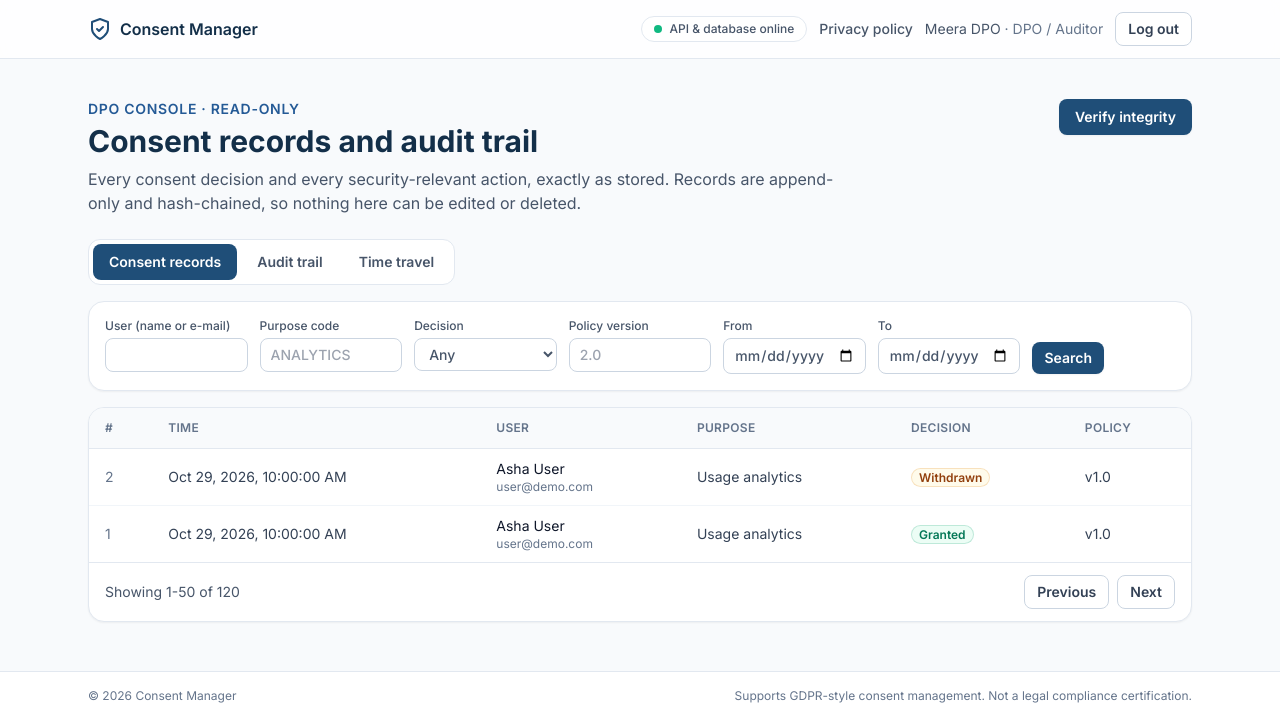
Test: DPO console (#22) › switches to the audit trail tab
This screenshot has width=1280, height=720.
Click the tab "Audit trail". click: click(290, 262)
box: top-left (241, 244), bottom-right (339, 280)
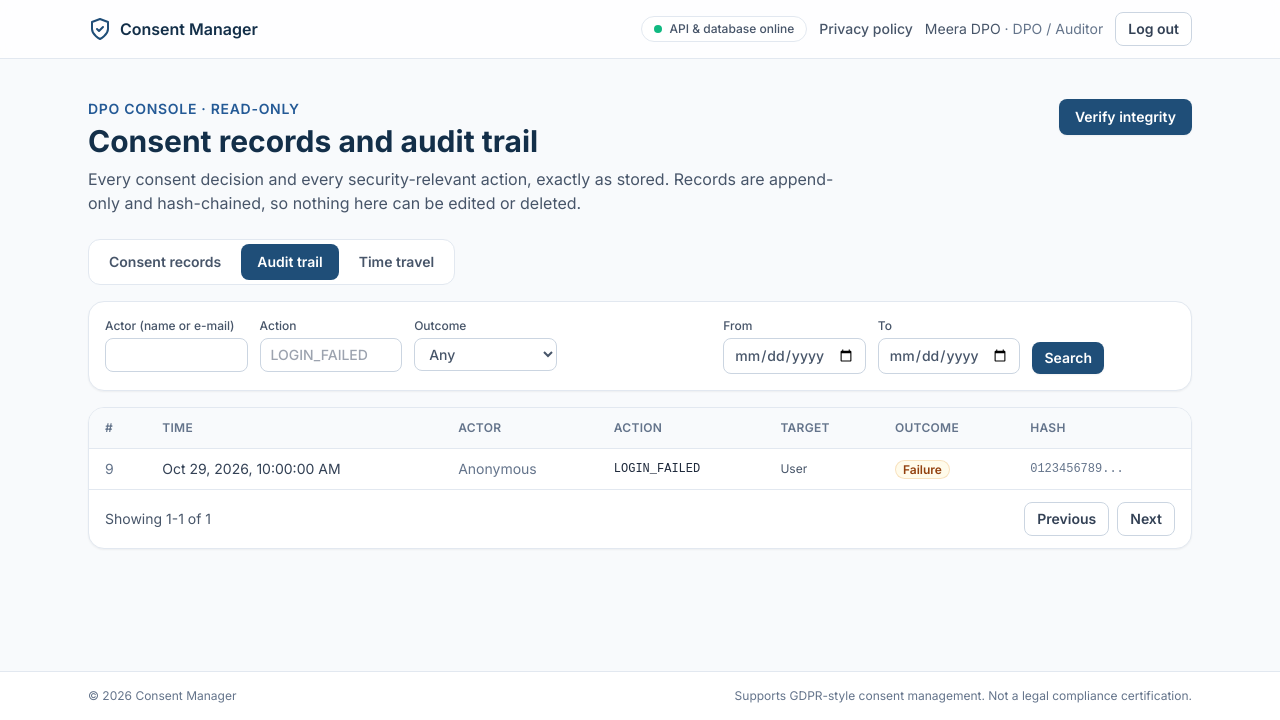
Expected: the text "Anonymous" is shown, top-left (458, 460), bottom-right (537, 477)
Expected: the text "Failure" is shown, top-left (895, 460), bottom-right (950, 479)
